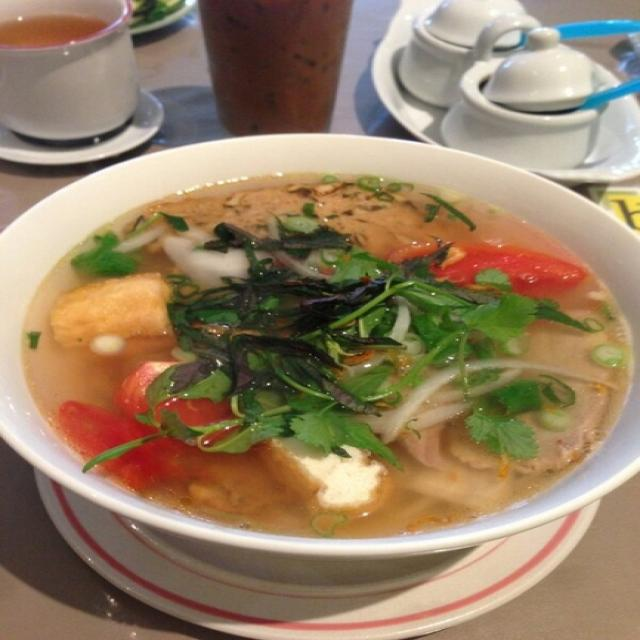面条主食: (23, 67, 630, 591)
